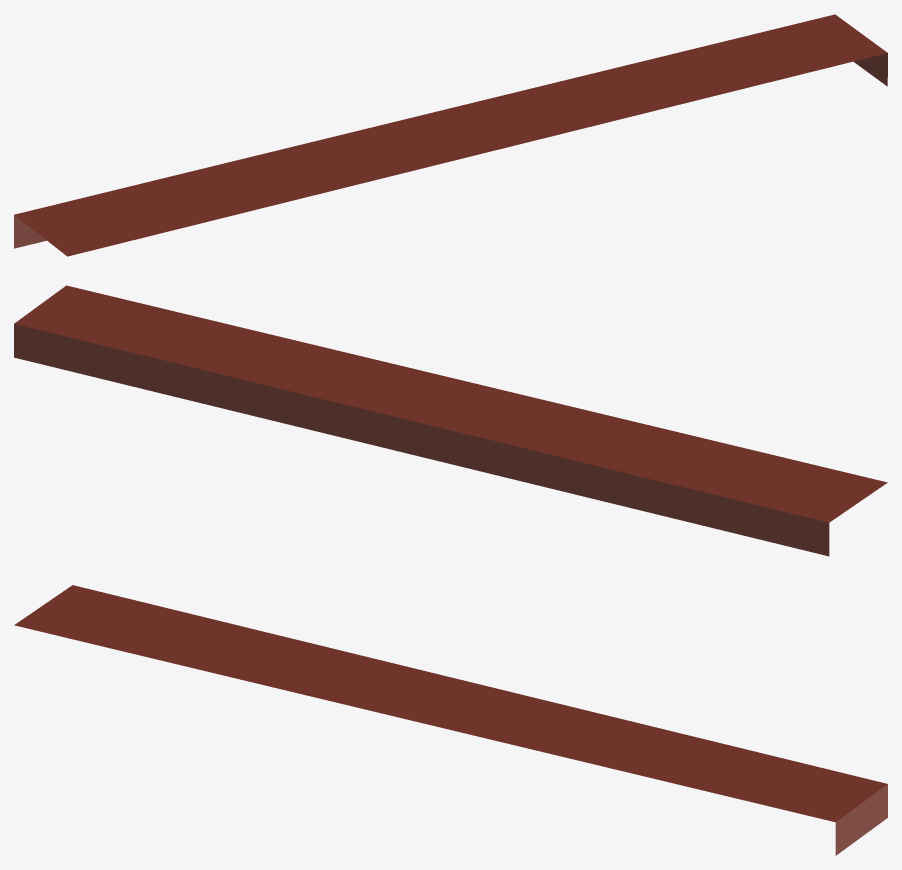
File: BeamGroundSideB.fbx
The picture shows the model from 3 angles, top to bottom: view 1: azimuth 30°, elevation 25°; view 2: azimuth 150°, elevation 25°; view 3: azimuth 330°, elevation 25°; orthographic projection.
Visible parts, largest first — view 1: BeamGroundSideB; view 2: BeamGroundSideB; view 3: BeamGroundSideB.
Part boxes in pixels (x1,y1,x2,y2): BeamGroundSideB: (14,14,887,256); BeamGroundSideB: (14,285,887,556); BeamGroundSideB: (14,585,887,855).
Bounding box in the file's own units: 169 × 6.66 × 19.97.
